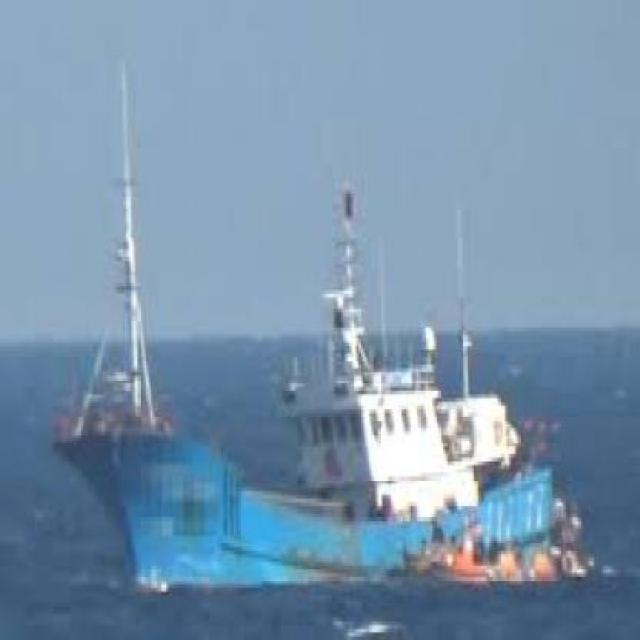fish-b: (49, 38, 595, 612)
